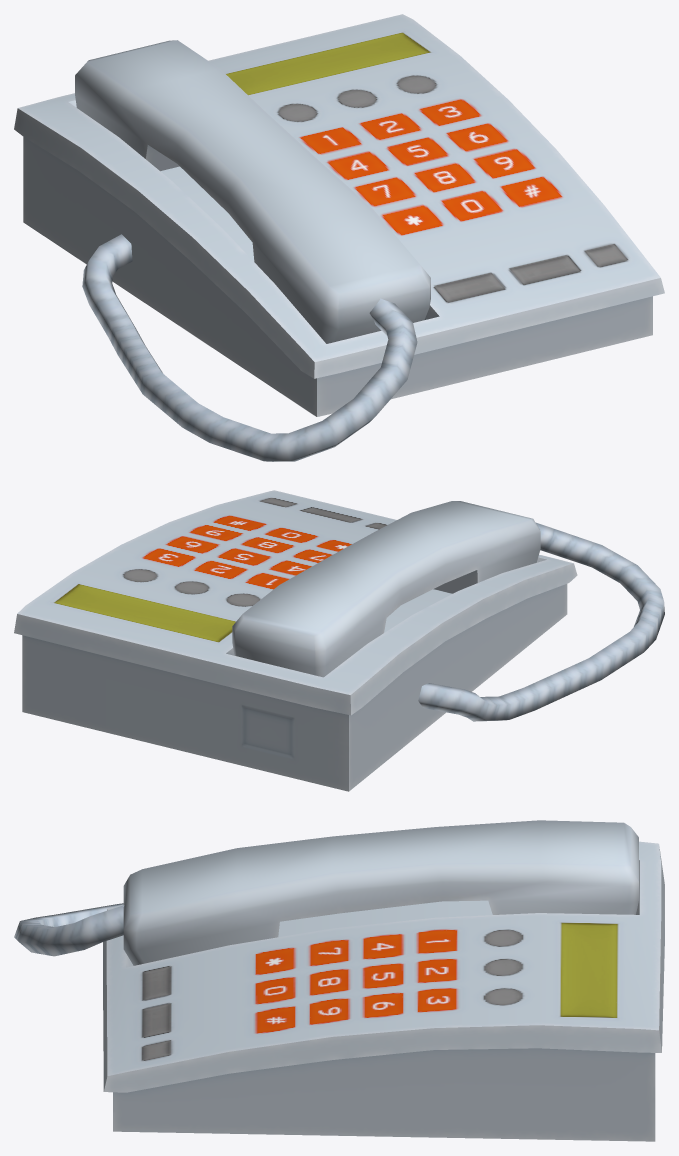
The model's file is OfficePhone01.FBX.
The picture shows the model from 3 angles, top to bottom: view 1: azimuth 30°, elevation 25°; view 2: azimuth 150°, elevation 25°; view 3: azimuth 270°, elevation 25°; orthographic projection. The views are drawn at different scales.
Parts seen in each view (by area): view 1: OfficePhone01; view 2: OfficePhone01; view 3: OfficePhone01.
Boxes of the visible parts, box(x1,y1,x2,y2) form: OfficePhone01: box(14, 14, 664, 461); OfficePhone01: box(14, 490, 664, 791); OfficePhone01: box(14, 820, 664, 1141).
Size of what is drawn, in the model's own units: 0.2844 by 0.0989 by 0.3389.
